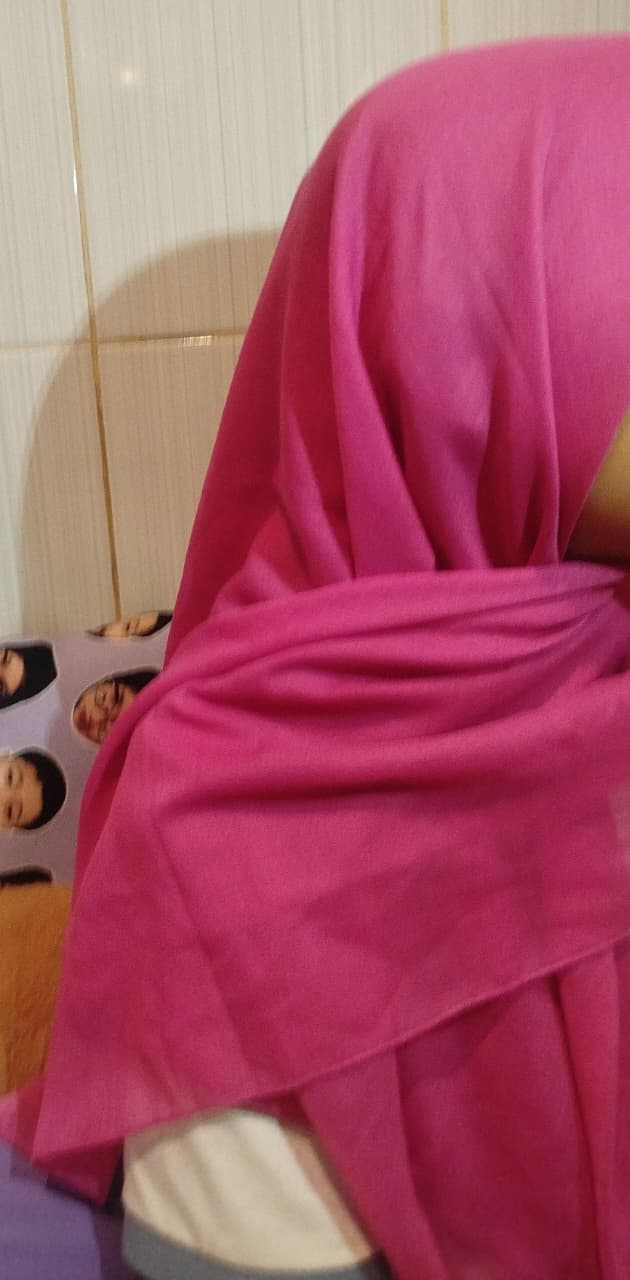kemeja_benar: (127, 20, 629, 880)
